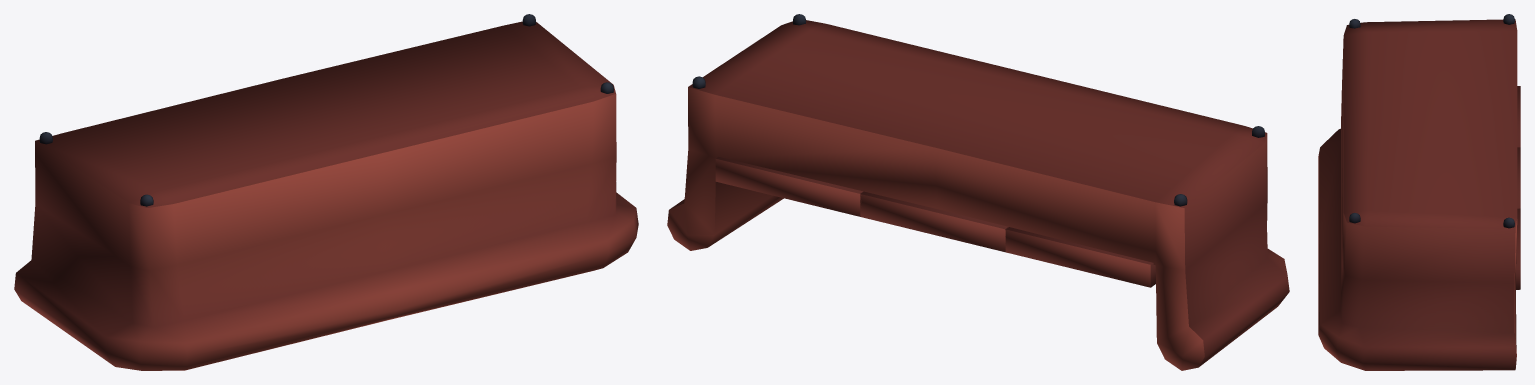
Rendered from couch.glb.
3 renders of one model, left to right at view 1: azimuth 30°, elevation 25°; view 2: azimuth 150°, elevation 25°; view 3: azimuth 270°, elevation 25°, orthographic. The views are drawn at different scales.
Visible parts, largest first — view 1: RoundedSofa; view 2: RoundedSofa; view 3: RoundedSofa.
Boxes of the visible parts, bbox=[...] form: RoundedSofa: bbox=[14, 14, 638, 370]; RoundedSofa: bbox=[667, 14, 1289, 370]; RoundedSofa: bbox=[1318, 14, 1520, 370].
Bounding box in the file's own units: 2.22 × 0.6844 × 0.8369.
